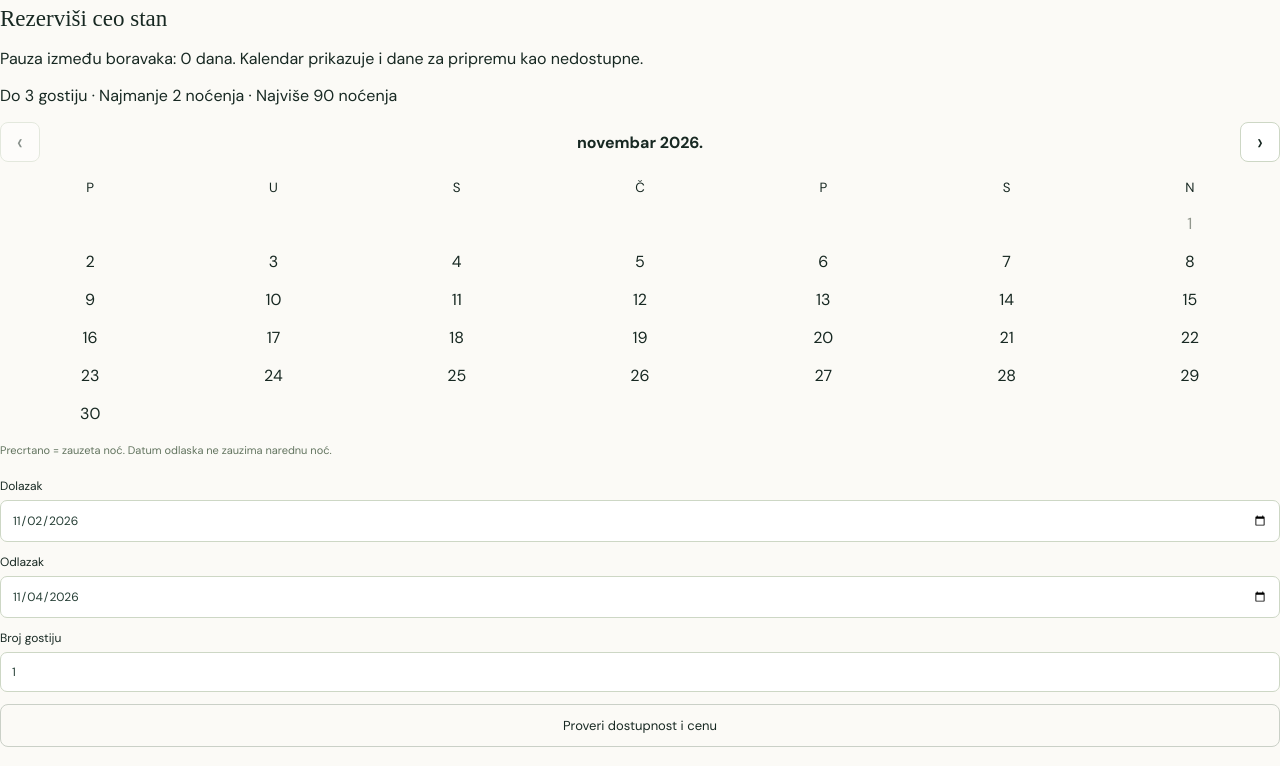
Test case: shows conflicts and requires a new quote instead of keeping stale confirmation
Click the button "Proveri dostupnost i cenu" at (640, 725), box [0,704,1279,747]
(page scrolled)
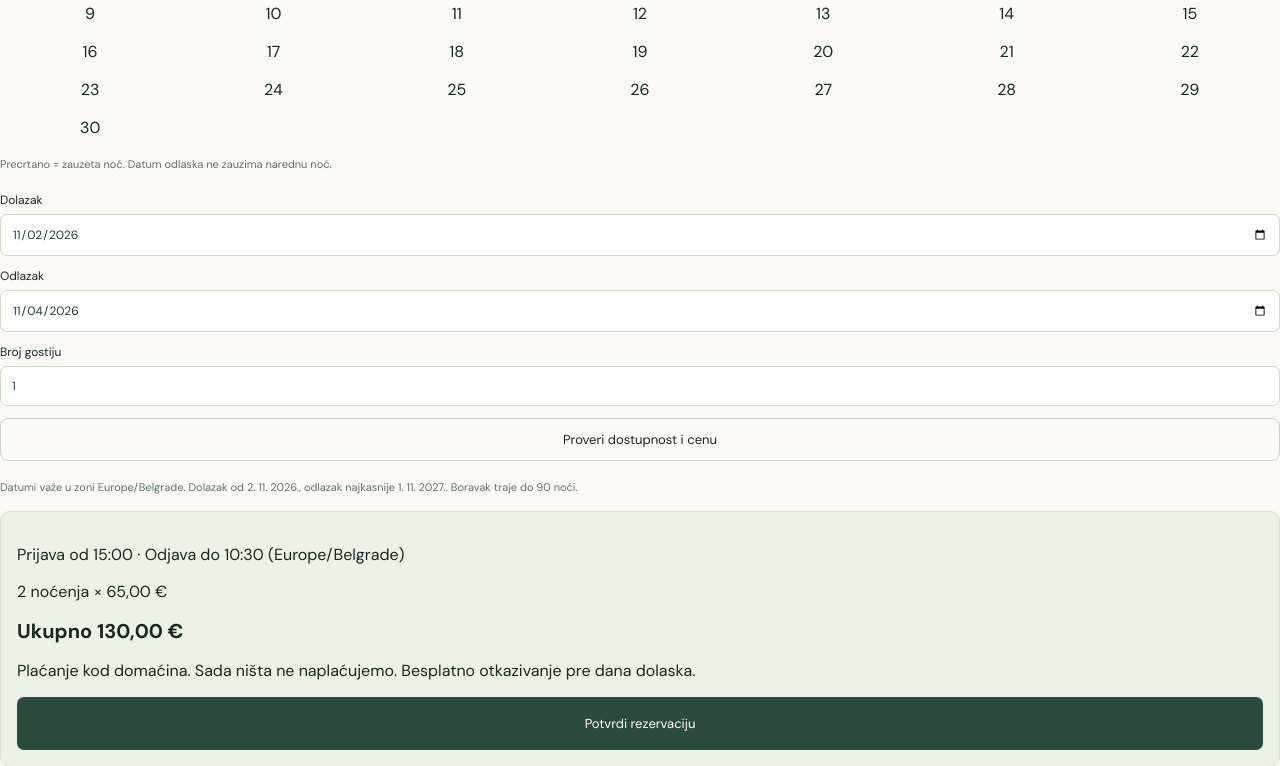
Click the button "Potvrdi rezervaciju" at (640, 724), box [17,697,1263,750]
(page scrolled)
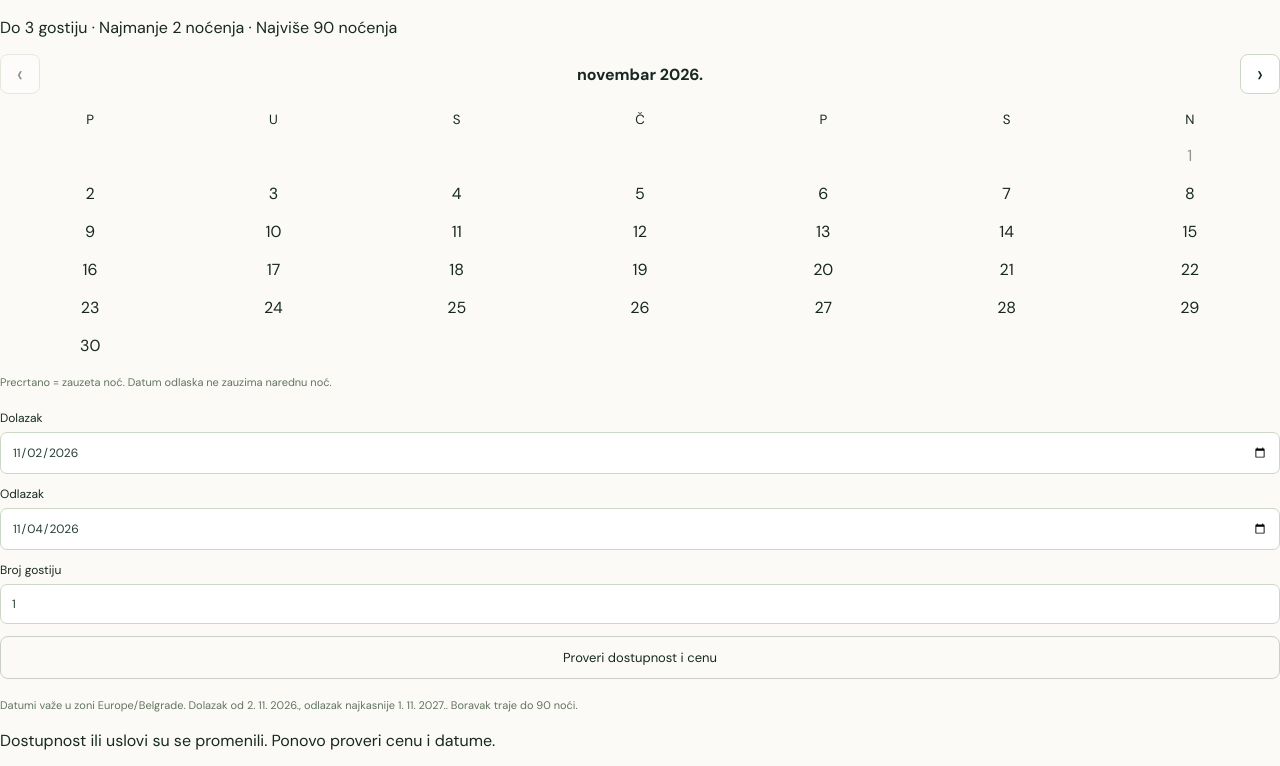
Expected: the message shows "Dostupnost ili uslovi su se promenili", [0,730,495,751]
Expected: the button "Potvrdi rezervaciju" is gone
